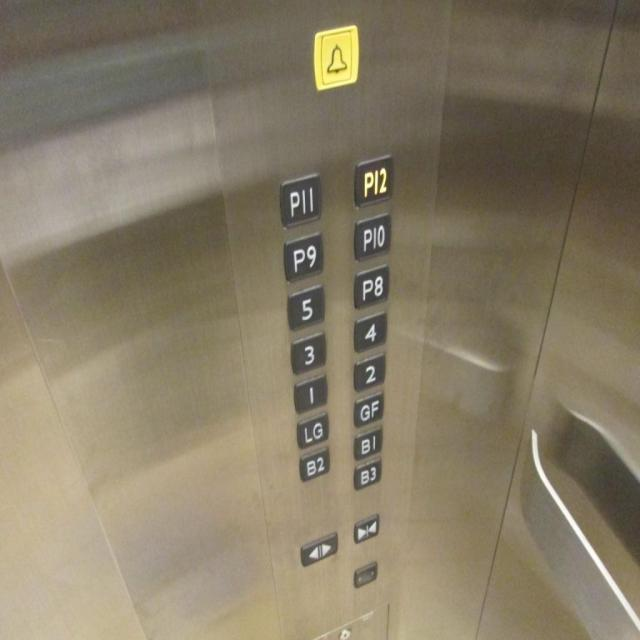1: (295, 370, 327, 413)
2: (352, 352, 386, 389)
3: (287, 328, 329, 378)
4: (352, 311, 388, 356)
5: (285, 285, 325, 332)
B1: (351, 426, 385, 462)
B2: (297, 450, 332, 482)
B3: (352, 462, 382, 490)
GF: (351, 389, 385, 428)
LG: (294, 413, 330, 448)
P10: (351, 212, 391, 263)
P11: (277, 173, 325, 227)
P12: (351, 151, 396, 210)
P8: (350, 264, 392, 312)
P9: (283, 232, 325, 285)
alarm: (311, 20, 362, 92)
blur: (353, 561, 378, 590)
close: (351, 514, 379, 546)
open: (298, 532, 337, 568)
